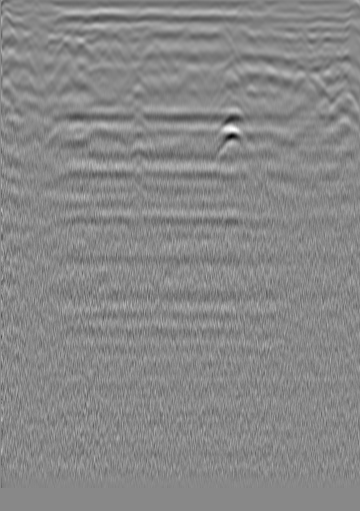가스: (211, 122, 251, 158)
상수: (313, 33, 338, 54)
오수: (22, 24, 42, 44)
우수: (175, 24, 195, 44)
